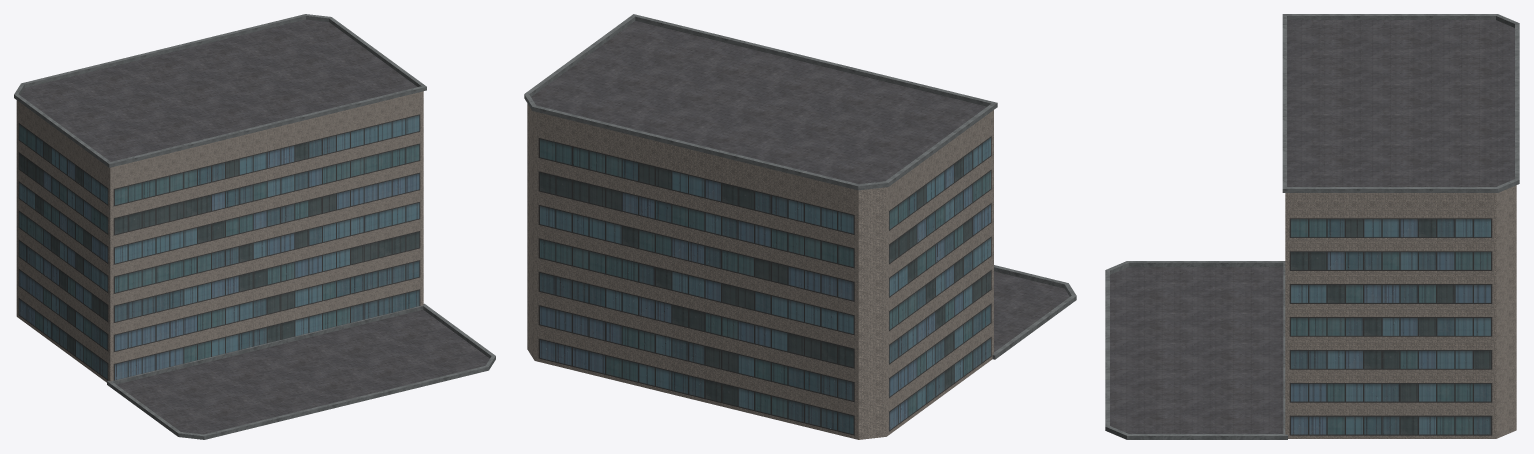
Rendered from jctBld50D_top_low.fbx.
The picture shows the model from 3 angles, left to right: view 1: azimuth 30°, elevation 25°; view 2: azimuth 150°, elevation 25°; view 3: azimuth 270°, elevation 25°; orthographic projection. The views are drawn at different scales.
Parts seen in each view (by area): view 1: jctBld50D_top_low; view 2: jctBld50D_top_low; view 3: jctBld50D_top_low.
Part boxes in pixels (<box>): jctBld50D_top_low: <box>14,14,495,439</box>; jctBld50D_top_low: <box>524,14,1076,439</box>; jctBld50D_top_low: <box>1105,14,1519,439</box>.
Size of the model in its own units: 4560 by 3050 by 4560.
